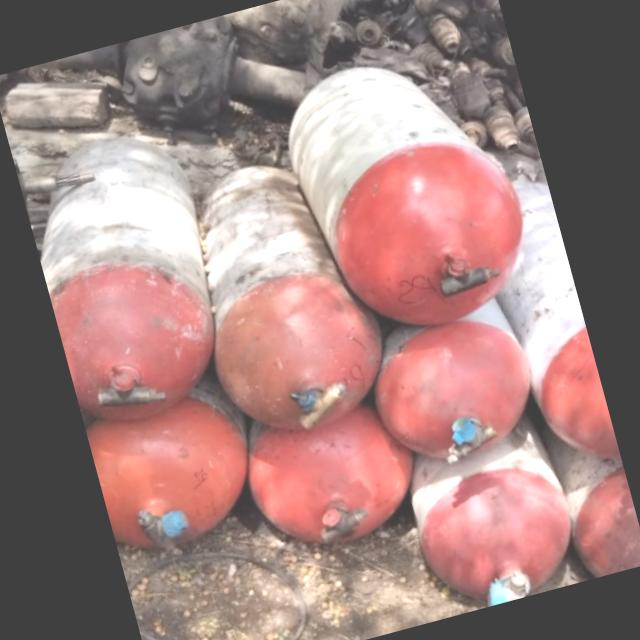Cylinders: (284, 68, 524, 330), (196, 163, 387, 434), (55, 147, 217, 429)
